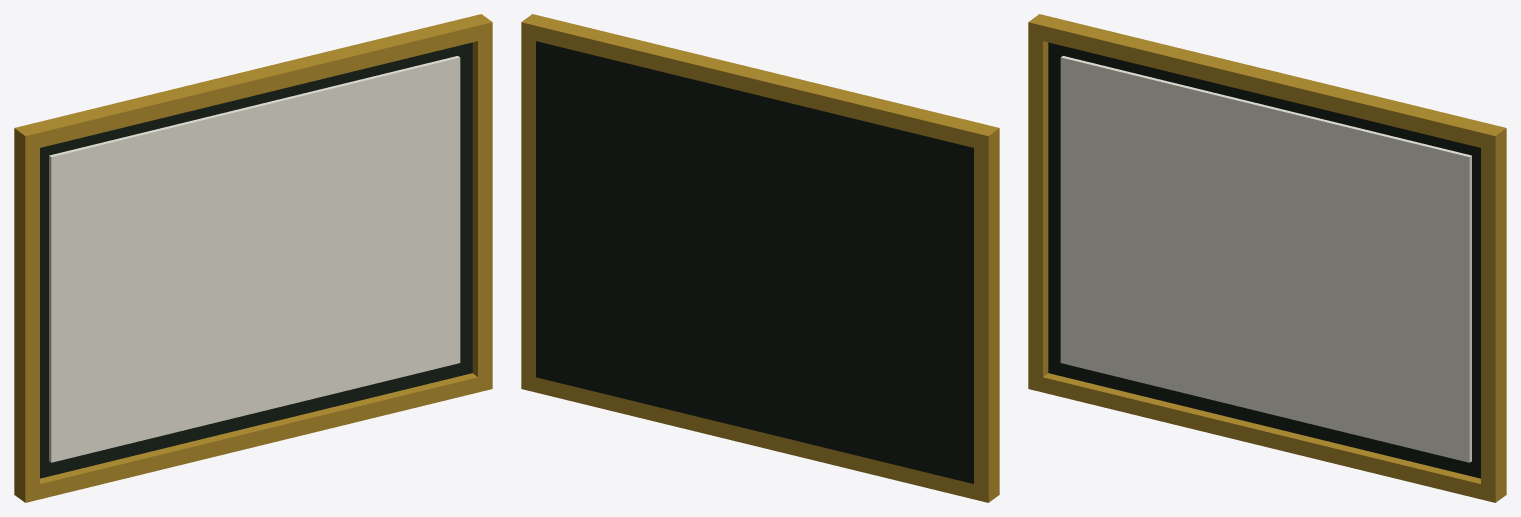
Rendered from framed-art.glb.
3 renders of one model, left to right at view 1: azimuth 30°, elevation 25°; view 2: azimuth 150°, elevation 25°; view 3: azimuth 330°, elevation 25°, orthographic.
Visible parts, largest first — view 1: art_slot, mount, backing, frame_top, frame_bottom, frame_left, frame_right; view 2: backing, frame_top, frame_left, frame_bottom, frame_right; view 3: art_slot, mount, backing, frame_top, frame_bottom, frame_right, frame_left.
Part boxes in pixels (<box>): art_slot: <box>95,109,416,411</box>; mount: <box>49,56,460,462</box>; backing: <box>40,42,472,478</box>; frame_top: <box>14,17,481,151</box>; frame_bottom: <box>25,373,492,502</box>; frame_left: <box>14,124,39,502</box>; frame_right: <box>467,14,492,392</box>; backing: <box>536,41,973,483</box>; frame_top: <box>521,17,992,150</box>; frame_left: <box>974,124,999,502</box>; frame_bottom: <box>521,374,988,502</box>; frame_right: <box>521,14,546,390</box>; art_slot: <box>1104,109,1425,411</box>; mount: <box>1060,56,1471,462</box>; backing: <box>1048,42,1480,478</box>; frame_top: <box>1028,17,1499,150</box>; frame_bottom: <box>1028,373,1495,502</box>; frame_right: <box>1481,124,1506,502</box>; frame_left: <box>1028,14,1053,390</box>.
Bounding box in the file's own units: 0.96 × 0.72 × 0.04.
